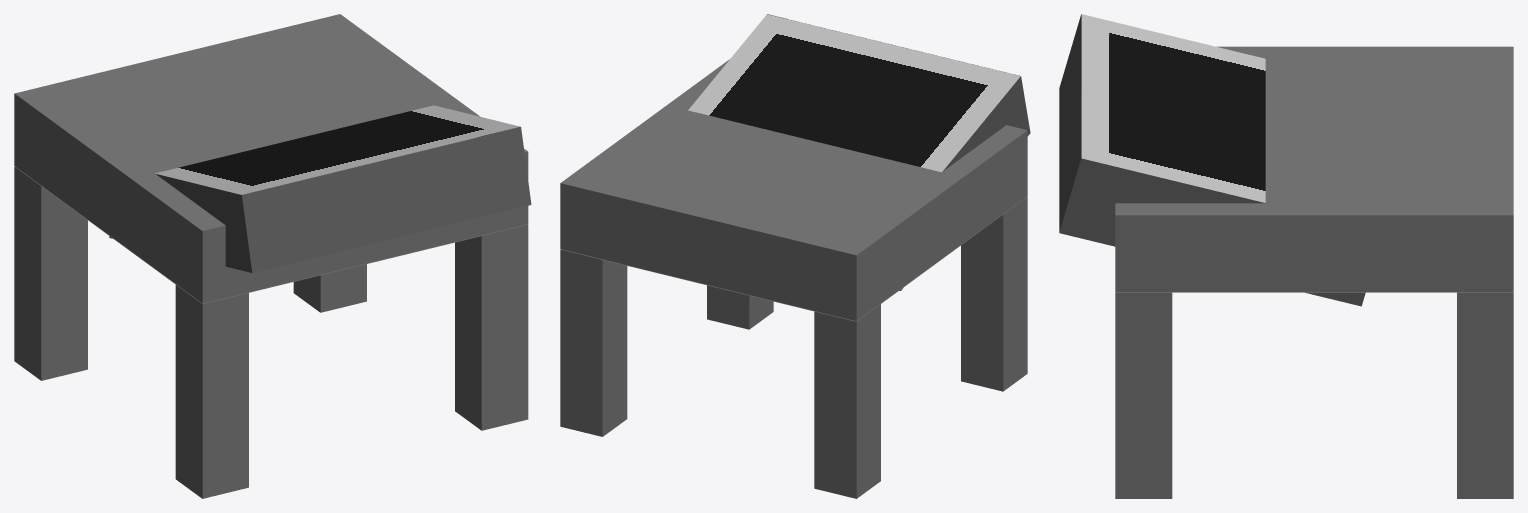
File: securityStation.obj
3 views of the same model, side by side, from view 1: azimuth 30°, elevation 25°; view 2: azimuth 150°, elevation 25°; view 3: azimuth 270°, elevation 25° (orthographic). The views are drawn at different scales.
Bounding box in the file's own units: 0.875 × 0.796 × 0.9981.
